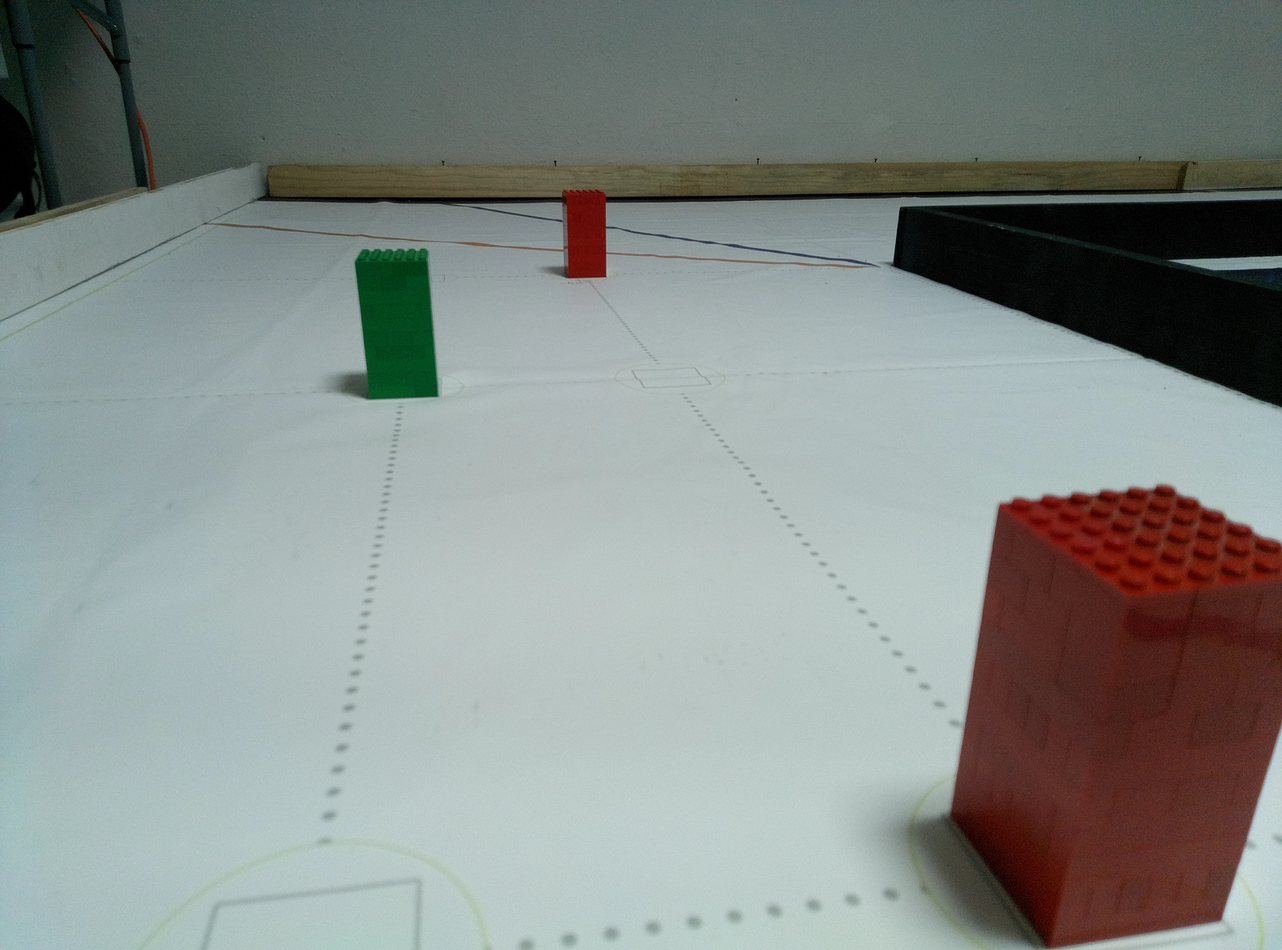greenbox: (352, 249, 439, 396)
redbox: (950, 467, 1280, 947), (561, 188, 607, 277)
